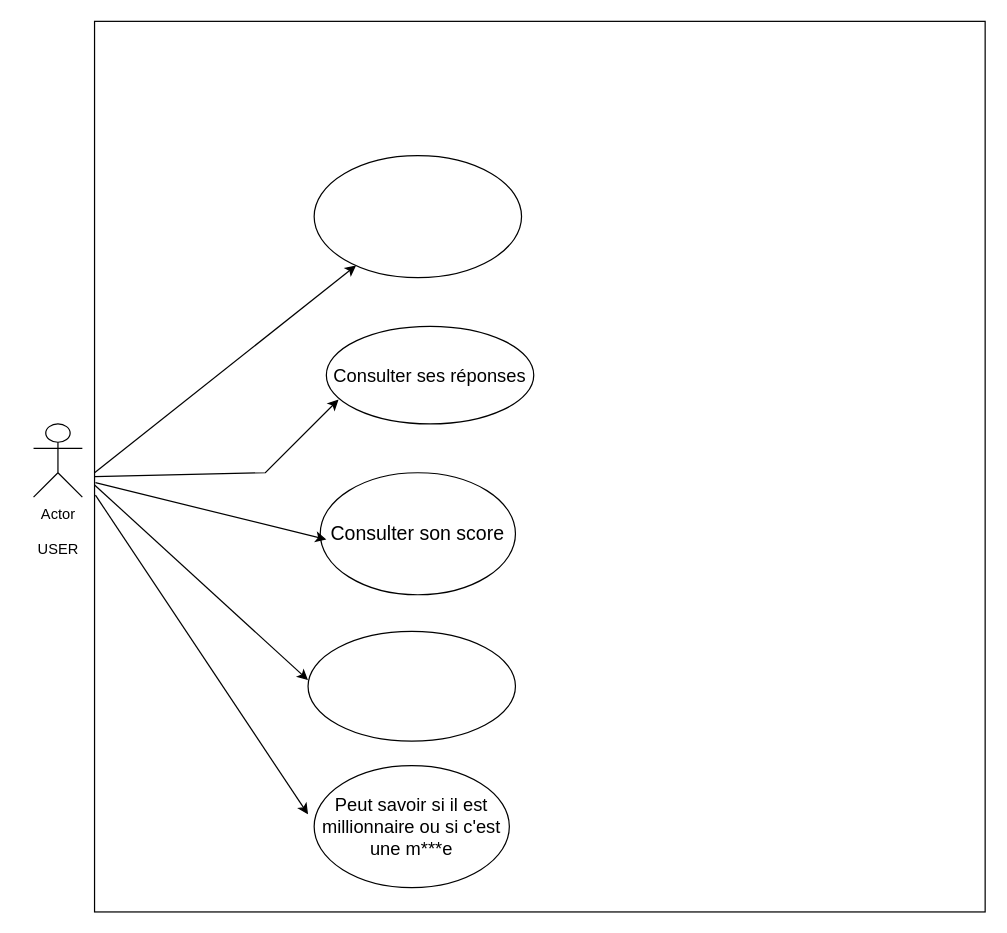
The diagram is 1007 pixels wide and 933 high, and some of its shapes have lost their labels. Each missing label, with the centre of its shape:
"Consulter son %age de bonnes réponses & son score final" goes at point 411,685.
"Repondre aux questions" goes at point 417,216.
